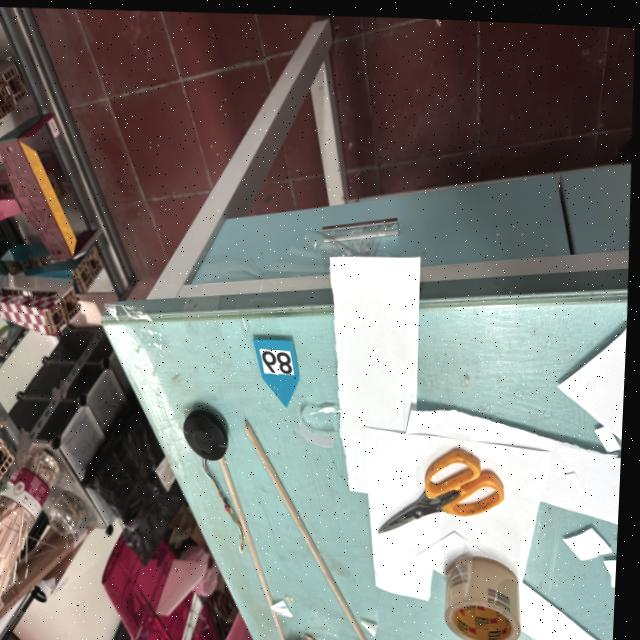board: (253, 333, 303, 407)
